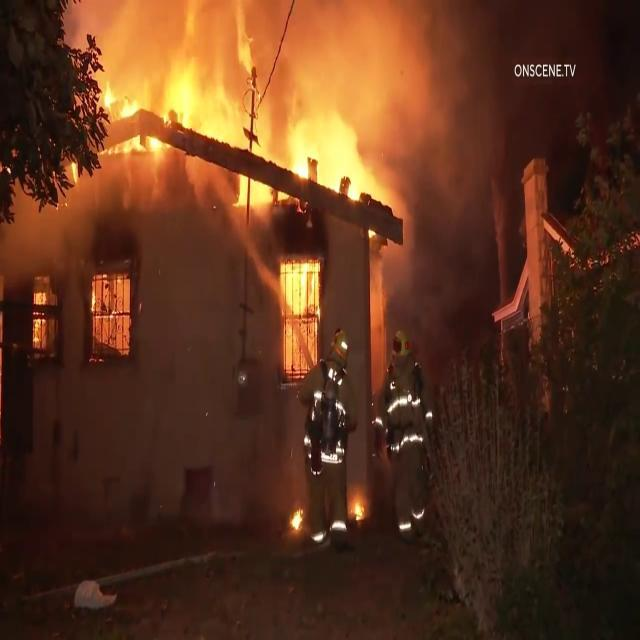Fire: (70, 86, 232, 152), (282, 114, 378, 218), (282, 262, 316, 373), (98, 296, 128, 383), (32, 282, 57, 338), (358, 507, 372, 545), (293, 506, 307, 540)
Smoke: (398, 0, 568, 120), (402, 135, 484, 302), (258, 2, 376, 72)
